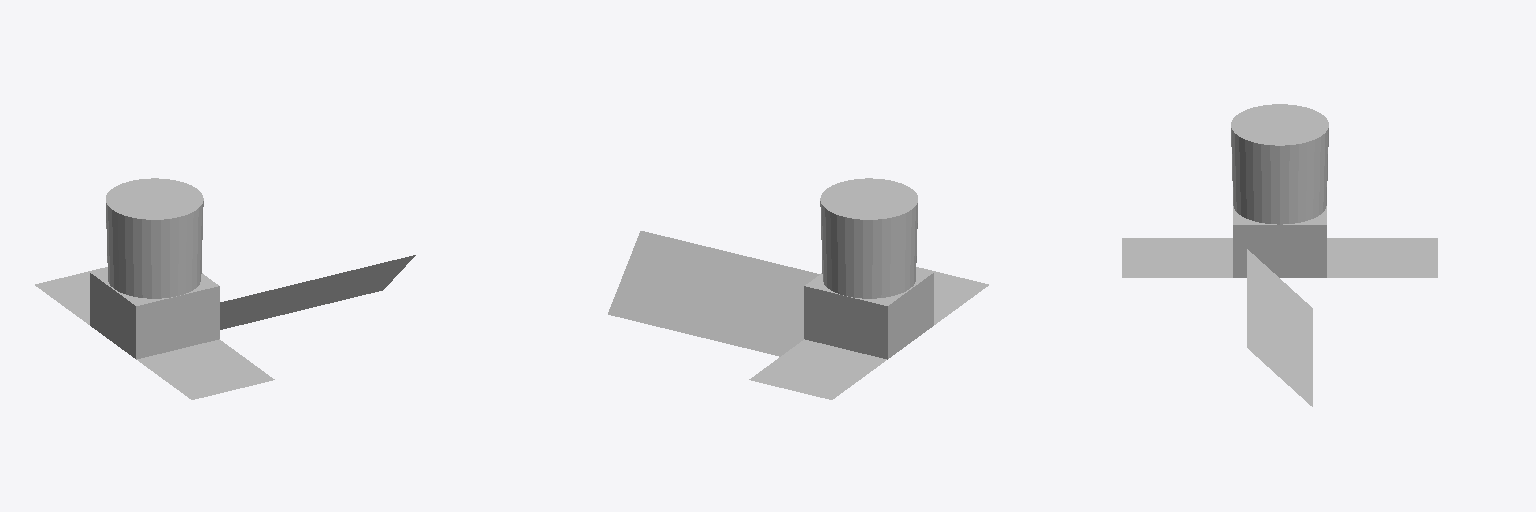
The model's file is straight_combined_LAMP_backward_45.obj.
3 views of the same model, side by side, from view 1: azimuth 30°, elevation 25°; view 2: azimuth 150°, elevation 25°; view 3: azimuth 270°, elevation 25° (orthographic).
Visible parts, largest first — view 1: 27U_combined_case_straight_solar.001, 27U_combined_case_straight_solar.000; view 2: 27U_combined_case_straight_solar.001, 27U_combined_case_straight_solar.000; view 3: 27U_combined_case_straight_solar.001, 27U_combined_case_straight_solar.000.
Part boxes in pixels (x1,y1,x2,y2): 27U_combined_case_straight_solar.001: (35, 178, 274, 399); 27U_combined_case_straight_solar.000: (220, 255, 415, 329); 27U_combined_case_straight_solar.001: (749, 178, 988, 399); 27U_combined_case_straight_solar.000: (608, 231, 819, 356); 27U_combined_case_straight_solar.001: (1122, 104, 1437, 277); 27U_combined_case_straight_solar.000: (1247, 249, 1312, 406).
Bounding box in the file's own units: 1.24 × 0.6737 × 1.18.